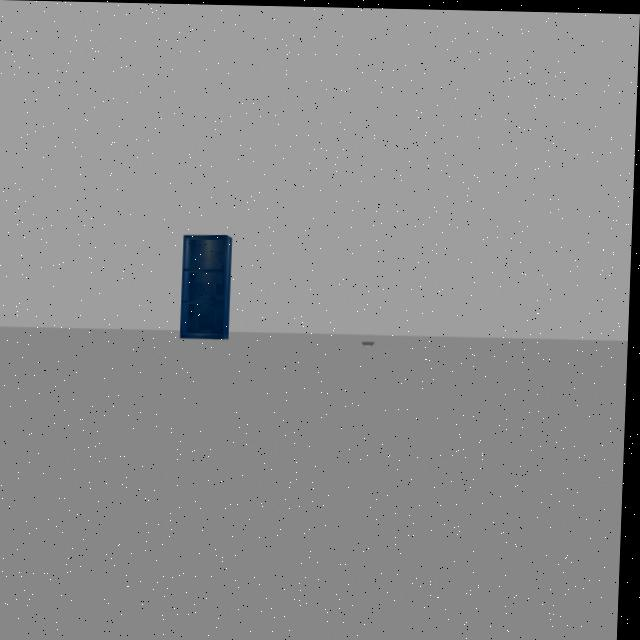bowl: (360, 325, 384, 354)
shelf: (174, 229, 240, 349)
